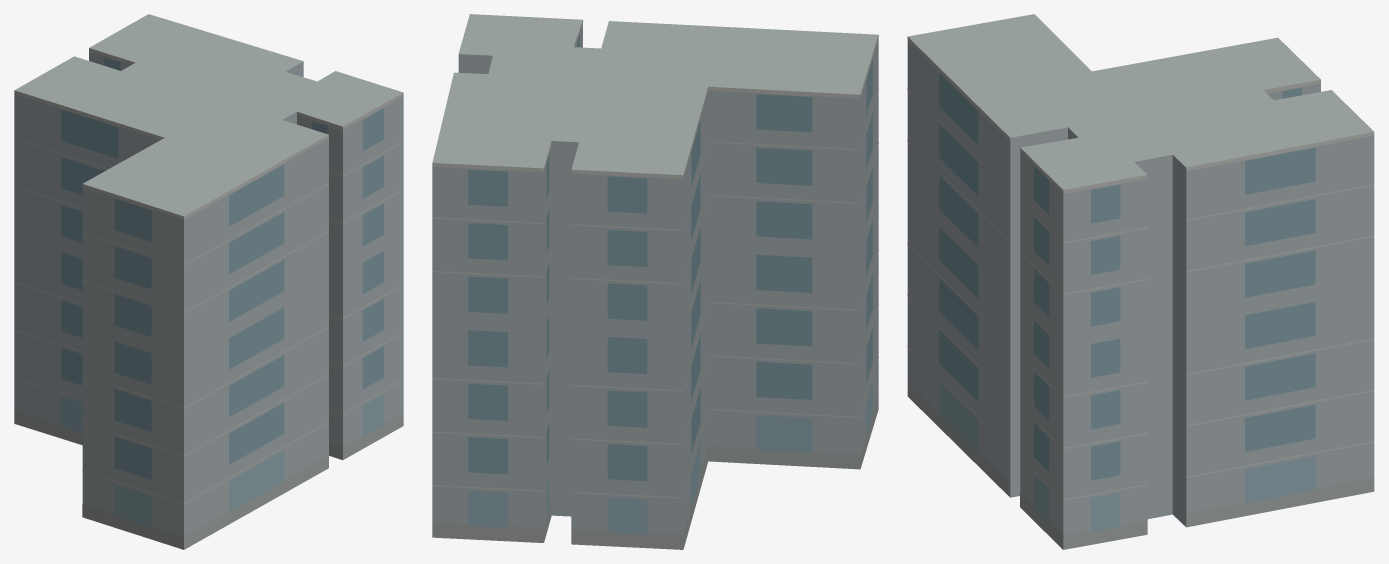
The model's file is survey-upis-32791831.glb.
3 views of the same model, side by side, from view 1: azimuth 30°, elevation 25°; view 2: azimuth 150°, elevation 25°; view 3: azimuth 270°, elevation 25° (orthographic). The views are drawn at different scales.
Visible parts, largest first — view 1: survey-upis-32791831.tmp; view 2: survey-upis-32791831.tmp; view 3: survey-upis-32791831.tmp.
Boxes of the visible parts, bbox=[...] form: survey-upis-32791831.tmp: bbox=[14, 14, 403, 549]; survey-upis-32791831.tmp: bbox=[432, 14, 878, 549]; survey-upis-32791831.tmp: bbox=[907, 14, 1374, 549].
Bounding box in the file's own units: 24.05 × 22.9 × 26.94.
